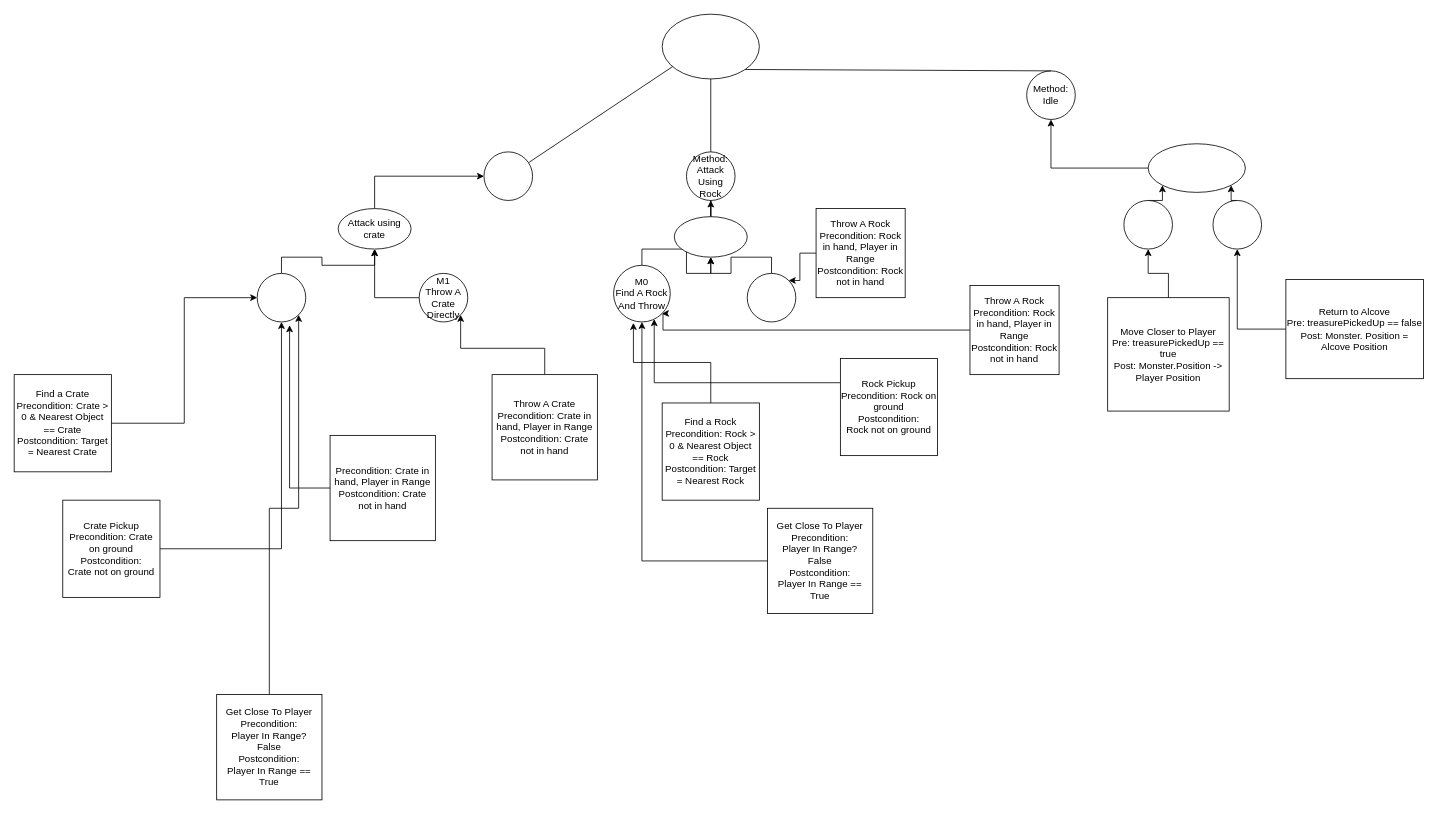
Some shapes in this 1438 by 814 pixel diagram are drawn without their labels. Each missing label, with the centre of its shape:
Attack using Rock: the point at 710,236
M0: the point at 1147,224
M0 Find A Crate And Throw: the point at 281,297
M1: the point at 1237,224
M1 Throw A Rock Directly: the point at 771,297
Method: Attack Using Crate: the point at 508,175
Move: the point at 1196,167
Root: the point at 710,46
